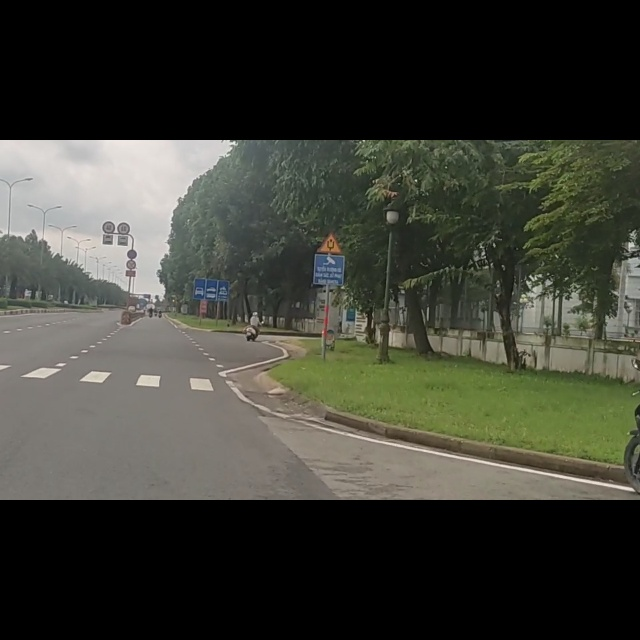bien_cam: (315, 159, 344, 200)
